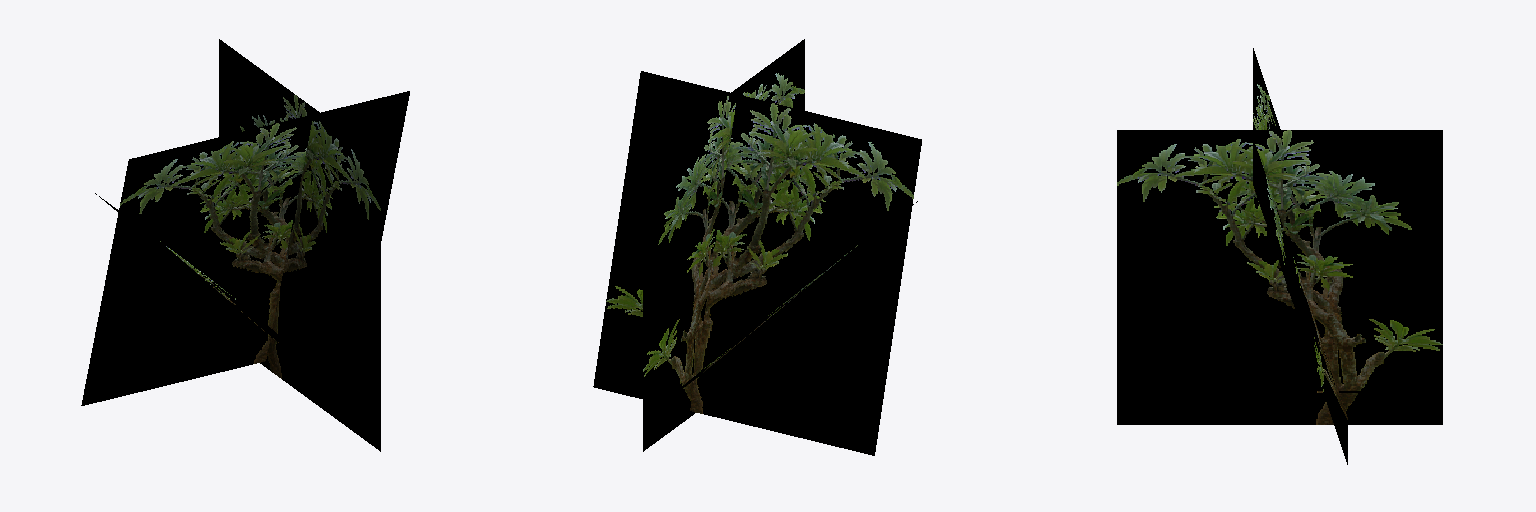
3 renders of one model, left to right at view 1: azimuth 30°, elevation 25°; view 2: azimuth 150°, elevation 25°; view 3: azimuth 270°, elevation 25°, orthographic.
Visible parts, largest first — view 1: Frame 1; view 2: Frame 1; view 3: Frame 1.
Part boxes in pixels (left/top/right/bottom): Frame 1: left=81, top=39, right=409, bottom=451; Frame 1: left=593, top=39, right=921, bottom=455; Frame 1: left=1117, top=48, right=1442, bottom=464.
Bounding box in the file's own units: 44.23 × 44.23 × 44.23.
1 materials, 1 textured.